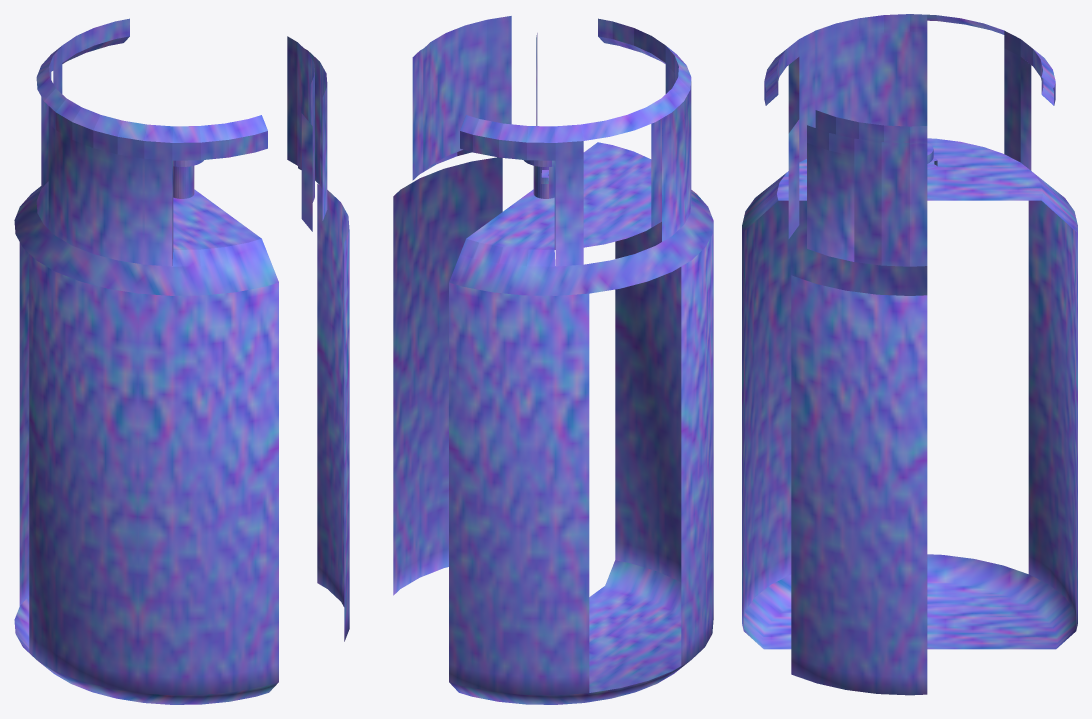
The picture shows the model from 3 angles, left to right: view 1: azimuth 30°, elevation 25°; view 2: azimuth 150°, elevation 25°; view 3: azimuth 270°, elevation 25°; orthographic projection.
Parts seen in each view (by area): view 1: Cilindro; view 2: Cilindro; view 3: Cilindro.
Part boxes in pixels (x1,y1,x2,y2): Cilindro: [14, 18, 349, 704]; Cilindro: [393, 16, 713, 704]; Cilindro: [742, 14, 1077, 695].
Size of the model in its own units: 200 by 376 by 200.
